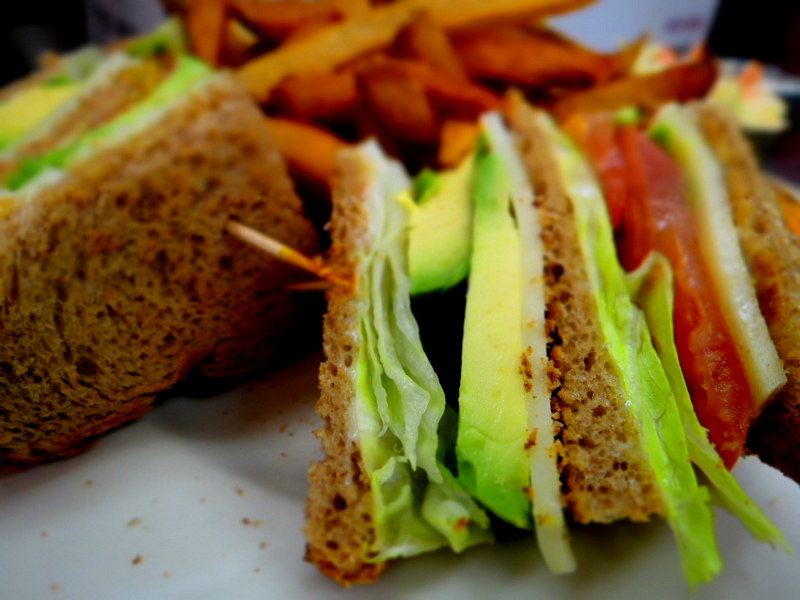chopped lettuce: (613, 155, 715, 542), (368, 154, 461, 560)
slice of bread: (3, 82, 296, 489), (519, 105, 640, 539), (305, 154, 374, 583), (712, 105, 800, 386)
